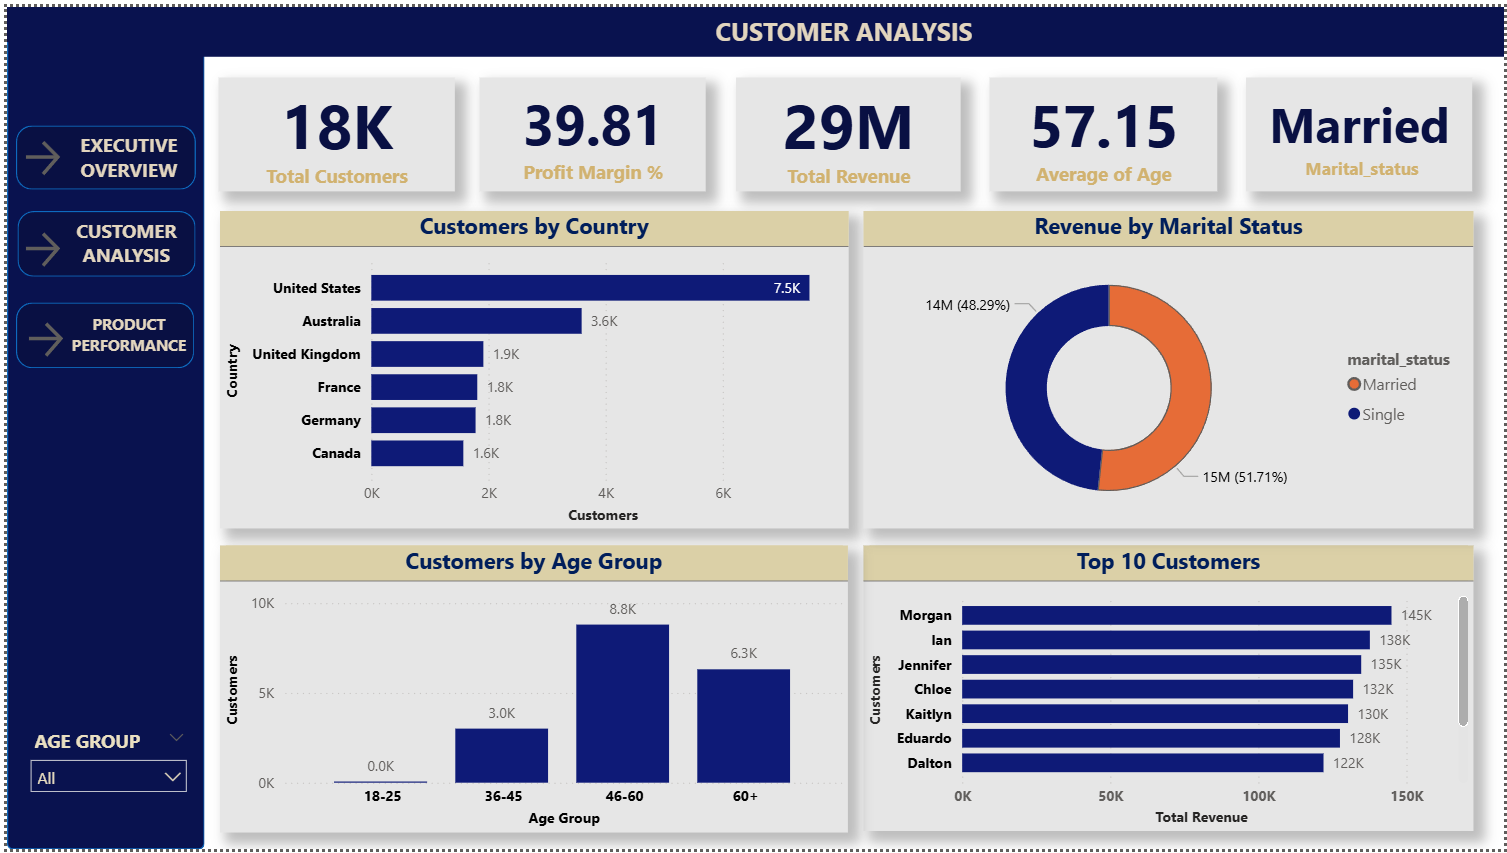

The dashboard page shown, as its layout file describes it:
{"tool":"powerbi","page":{"name":"Customer Analysis","canvas":[1280,720],"ordinal":1},"visuals":[{"type":"shape","box":[0,0,168.9,720],"z":0},{"type":"actionButton","box":[10.1,108.7,39.1,40.6],"z":0,"group":"g2"},{"type":"shape","box":[0,0,1280.4,30.2],"z":1000},{"type":"actionButton","box":[10.1,187,39.1,40.6],"z":1000,"group":"g2"},{"type":"shape","box":[8.2,101.6,153.7,54.9],"z":2000},{"type":"actionButton","box":[13,263.8,39.1,40.6],"z":2000,"group":"g2"},{"type":"shape","box":[9.6,174.3,152.3,56.3],"z":3000},{"type":"shape","box":[8.2,252.5,152.3,56.3],"z":4000},{"type":"textbox","box":[29,173.9,144.9,58],"z":5000},{"type":"card","fields":{"Values":["gold fact_sales.Total Customers"]},"box":[181.1,60.4,201.7,97.4],"z":6000,"group":"g1"},{"type":"clusteredBarChart","title":"Top 10 Customers","fields":{"Y":["gold fact_sales.Total Revenue"],"Category":["gold dim_customers.first_name"]},"box":[731.4,460,521.4,244.3],"z":6000},{"type":"shape","box":[7.9,0,1272.1,42.5],"z":7000},{"type":"card","fields":{"Values":["gold fact_sales.Profit Margin %"]},"box":[404.8,60.4,193.5,97.4],"z":7000,"group":"g1"},{"type":"card","fields":{"Values":["gold fact_sales.Total Revenue"]},"box":[623,60.4,192.1,97.4],"z":8000,"group":"g1"},{"type":"textbox","box":[29,101.4,149.3,58],"z":8000},{"type":"group","id":"g1","title":"Group 2","box":[181.1,60.4,1071.8,97.4],"z":9000},{"type":"card","fields":{"Values":["Avg(gold dim_customers.Age)"]},"box":[839.8,60.4,194.9,97.4],"z":9000,"group":"g1"},{"type":"card","fields":{"Values":["Min(gold dim_customers.marital_status)"]},"box":[1059.4,60.4,193.5,97.4],"z":10000,"group":"g1"},{"type":"clusteredBarChart","title":"Customers by Country","fields":{"Category":["gold dim_customers.country"],"Y":["gold fact_sales.Total Customers"]},"box":[181.4,174.3,537.1,271.4],"z":10000},{"type":"donutChart","title":"Revenue by Marital Status","fields":{"Y":["gold fact_sales.Total Revenue"],"Category":["gold dim_customers.marital_status"]},"box":[731.4,174.3,521.4,271.4],"z":11000},{"type":"columnChart","title":"Customers by Age Group","fields":{"Y":["gold fact_sales.Total Customers"],"Category":["gold dim_customers.Age Group"]},"box":[182.3,459.7,536.7,245.1],"z":12000},{"type":"textbox","box":[565.8,0,300,42.5],"z":13000},{"type":"slicer","fields":{"Values":["gold dim_products.product_line"]},"box":[10.1,610.1,153.6,72.5],"z":14000},{"type":"group","id":"g2","title":"Group 1","box":[10.1,108.7,42,195.7],"z":15000},{"type":"textbox","box":[46.4,256.5,115.9,55.1],"z":16000}]}

Visuals, with their boxes on the page's 1280x720 design canvas (x1, y1, x2, y2). These are canvas units, not pixel positions in the 1507x853 screenshot, which may show the page scaled, cropped or inside an application window:
shape: 0/0/169/720
actionButton: 10/109/49/149
shape: 0/0/1280/30
actionButton: 10/187/49/228
shape: 8/102/162/156
actionButton: 13/264/52/304
shape: 10/174/162/231
shape: 8/252/160/309
textbox: 29/174/174/232
card - gold fact_sales.Total Customers: 181/60/383/158
"Top 10 Customers" clusteredBarChart: 731/460/1253/704
shape: 8/0/1280/42
card - gold fact_sales.Profit Margin %: 405/60/598/158
card - gold fact_sales.Total Revenue: 623/60/815/158
textbox: 29/101/178/159
"Group 2" group: 181/60/1253/158
card - Avg(gold dim_customers.Age): 840/60/1035/158
card - Min(gold dim_customers.marital_status): 1059/60/1253/158
"Customers by Country" clusteredBarChart: 181/174/718/446
"Revenue by Marital Status" donutChart: 731/174/1253/446
"Customers by Age Group" columnChart: 182/460/719/705
textbox: 566/0/866/42
slicer - gold dim_products.product_line: 10/610/164/683
"Group 1" group: 10/109/52/304
textbox: 46/256/162/312
